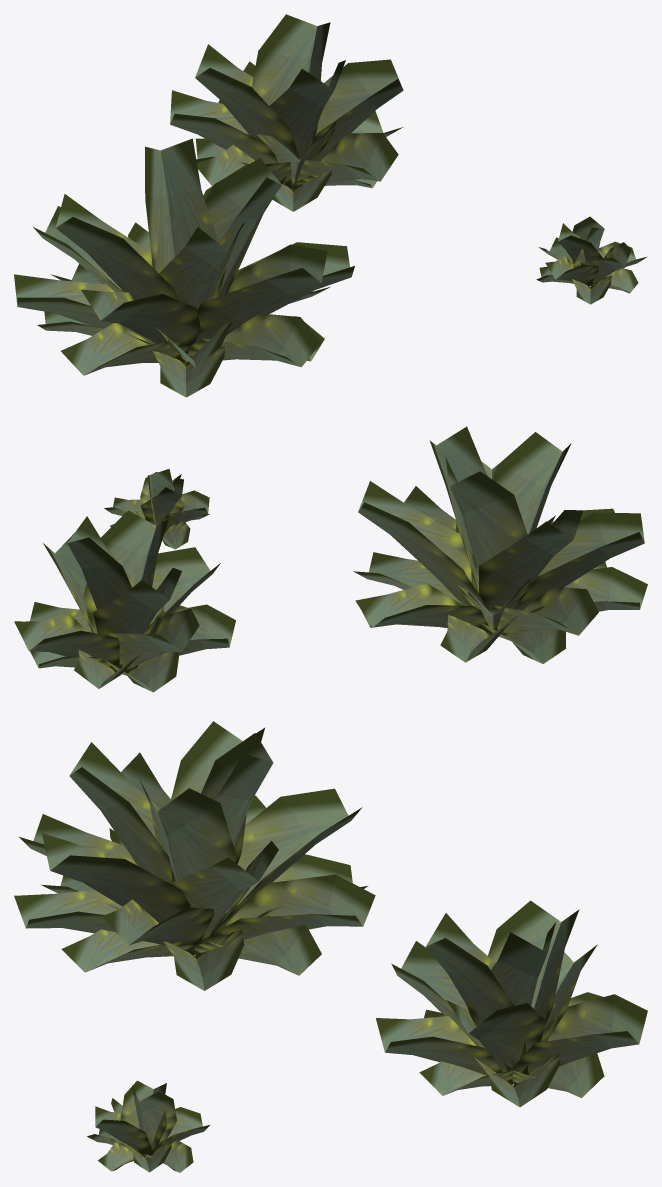
Rendered from yucca.glb.
The picture shows the model from 3 angles, top to bottom: view 1: azimuth 30°, elevation 25°; view 2: azimuth 150°, elevation 25°; view 3: azimuth 270°, elevation 25°; orthographic projection. The views are drawn at different scales.
Visible parts, largest first — view 1: geometry_0; view 2: geometry_0; view 3: geometry_0.
Part boxes in pixels (x1,y1,x2,y2): geometry_0: (14,14,647,397); geometry_0: (14,426,647,692); geometry_0: (14,721,647,1172).
Bounding box in the file's own units: 2678 × 900 × 2359.
Materials: 1 (1 with a texture image).
